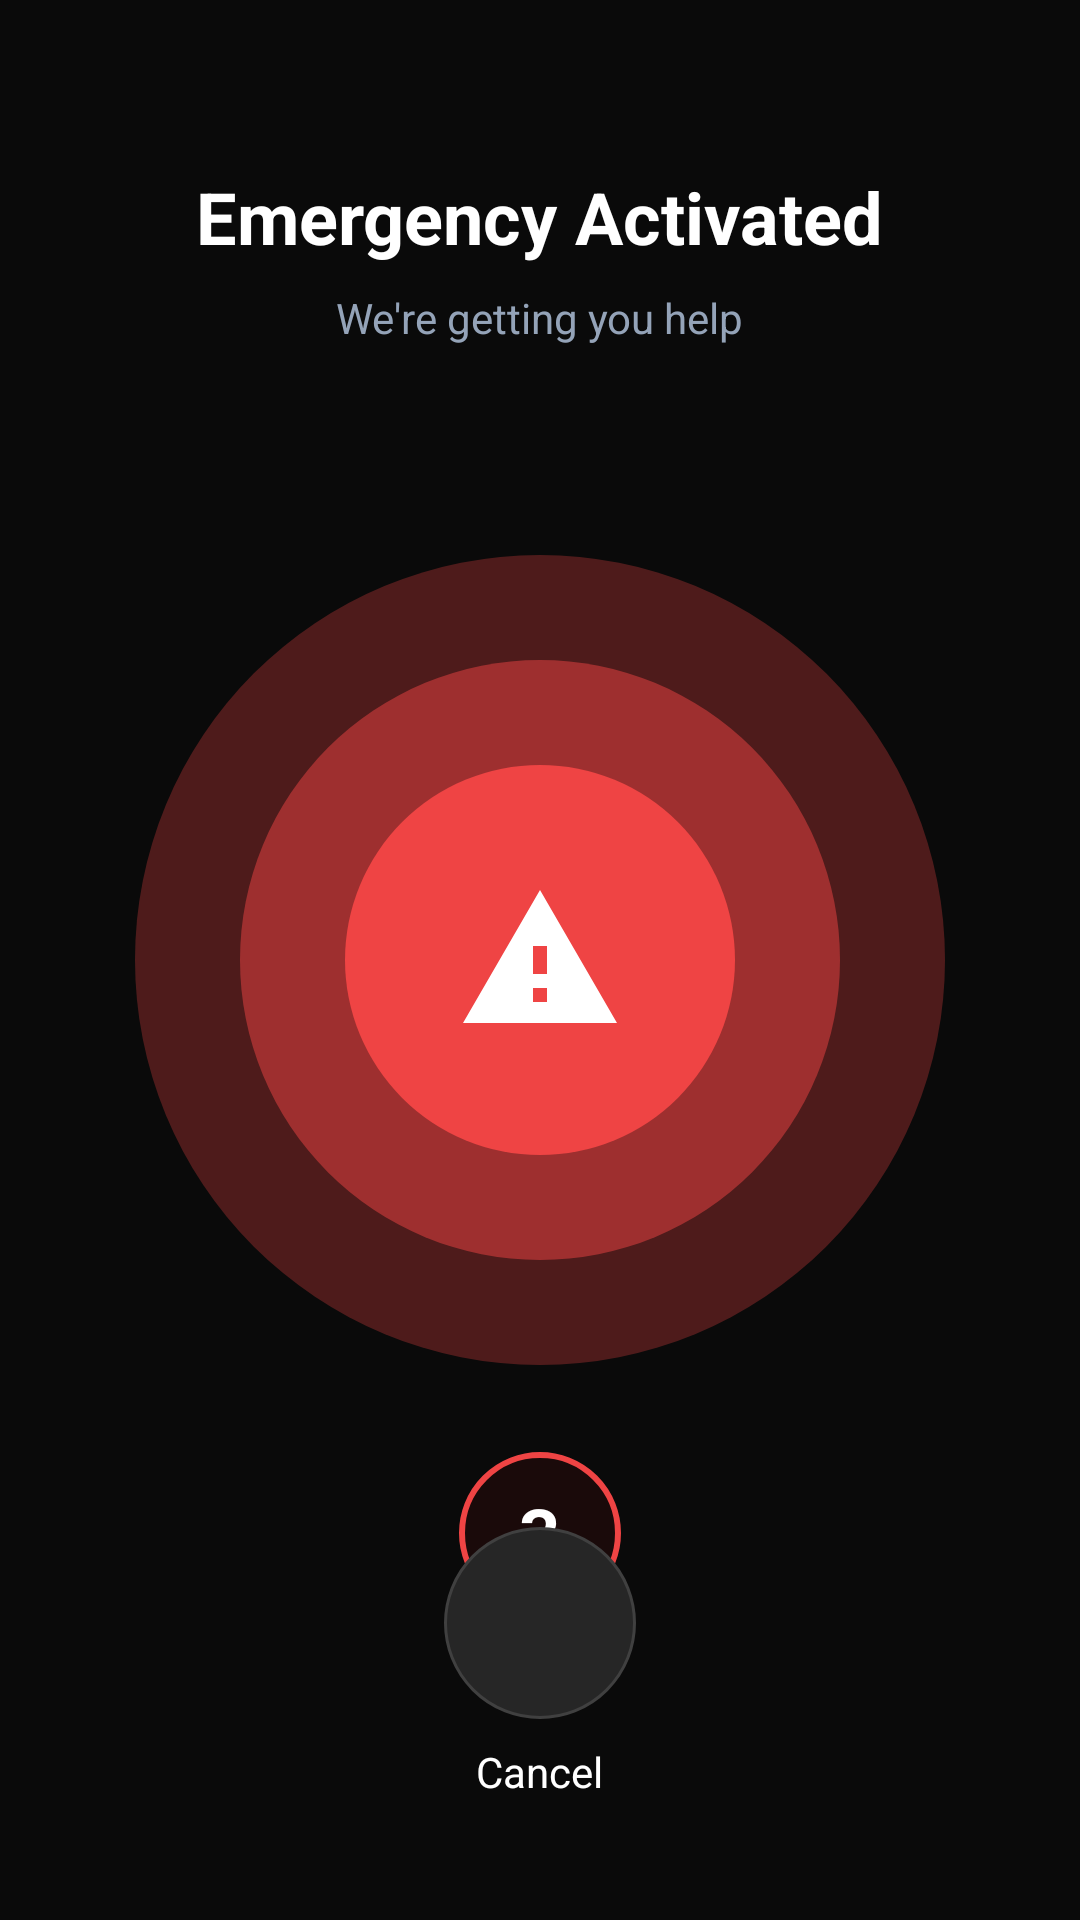

Screen size 1080 x 1920. Icon name, then its center in pixels as (x,y):
warning triangle: (540,956)
